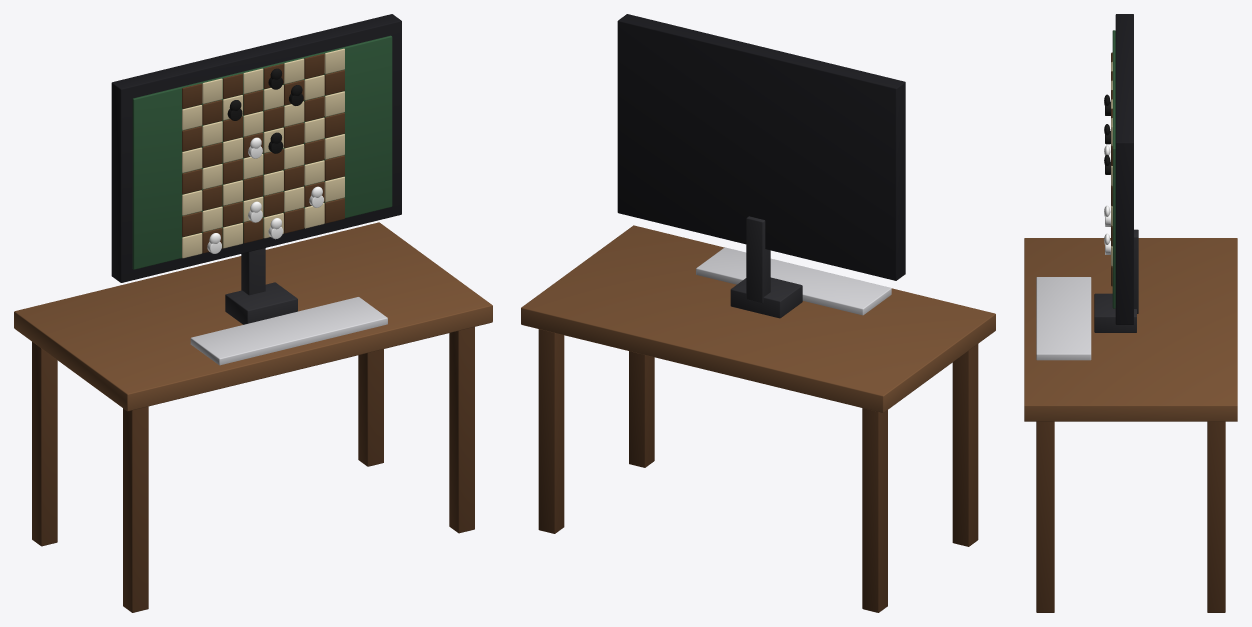
Rendered from chess_pc.glb.
3 renders of one model, left to right at view 1: azimuth 30°, elevation 25°; view 2: azimuth 150°, elevation 25°; view 3: azimuth 270°, elevation 25°, orthographic. The views are drawn at different scales.
Visible parts, largest first — view 1: chess_pc; view 2: chess_pc; view 3: chess_pc.
Part boxes in pixels (left/top/right/bottom): chess_pc: left=14, top=14, right=492, bottom=612; chess_pc: left=521, top=14, right=995, bottom=612; chess_pc: left=1024, top=14, right=1237, bottom=612.
Bounding box in the file's own units: 1.3 × 1.65 × 0.7.
